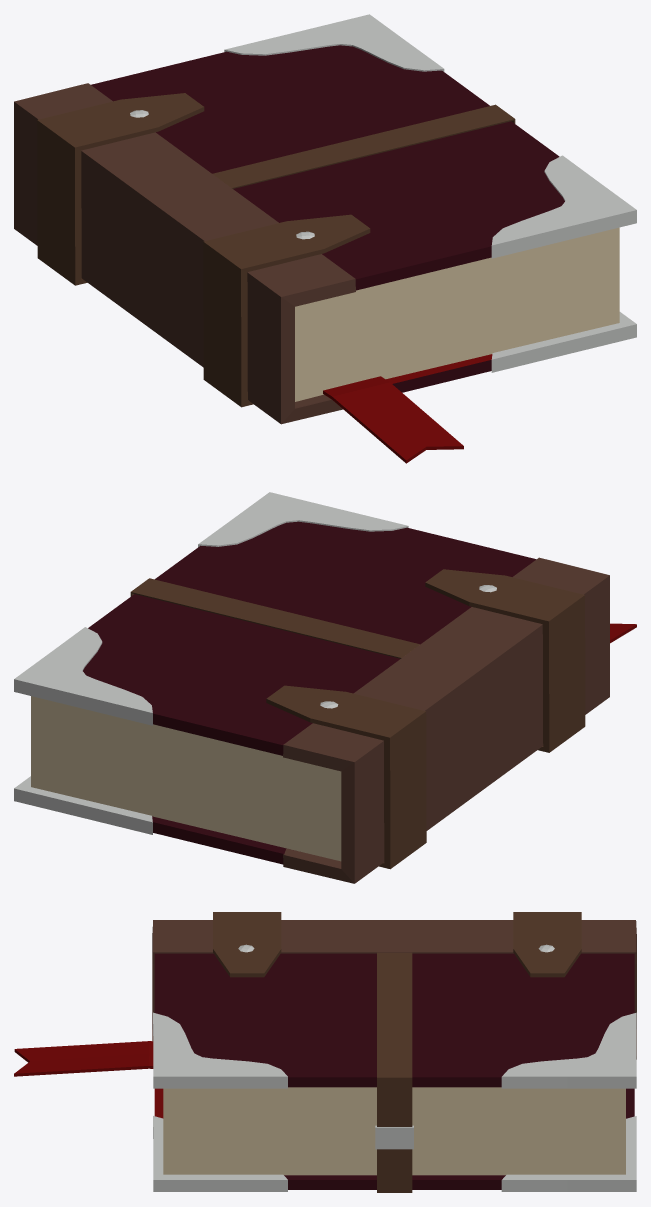
The model's file is Livro.fbx.
3 views of the same model, one above another, from view 1: azimuth 30°, elevation 25°; view 2: azimuth 150°, elevation 25°; view 3: azimuth 270°, elevation 25° (orthographic). The views are drawn at different scales.
Parts seen in each view (by area): view 1: Livro; view 2: Livro; view 3: Livro.
Part boxes in pixels (box(x1,y1,x2,y2)): Livro: box(14, 14, 636, 463); Livro: box(14, 492, 636, 883); Livro: box(14, 912, 636, 1192).
Bounding box in the file's own units: 23.1 × 8.44 × 37.61.
